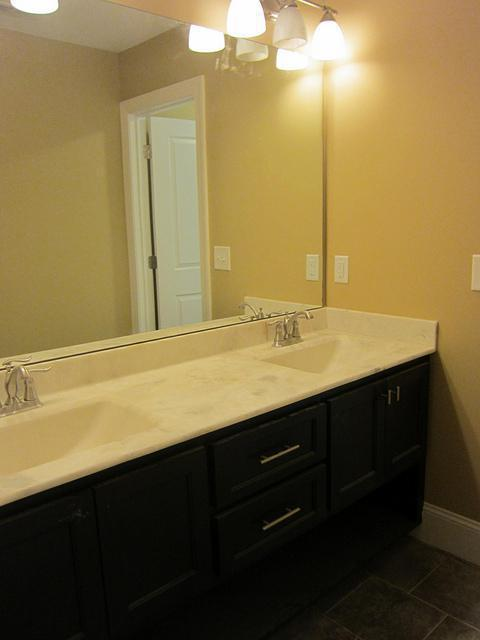Lavamanos: (0, 345, 154, 505), (257, 306, 392, 380)
